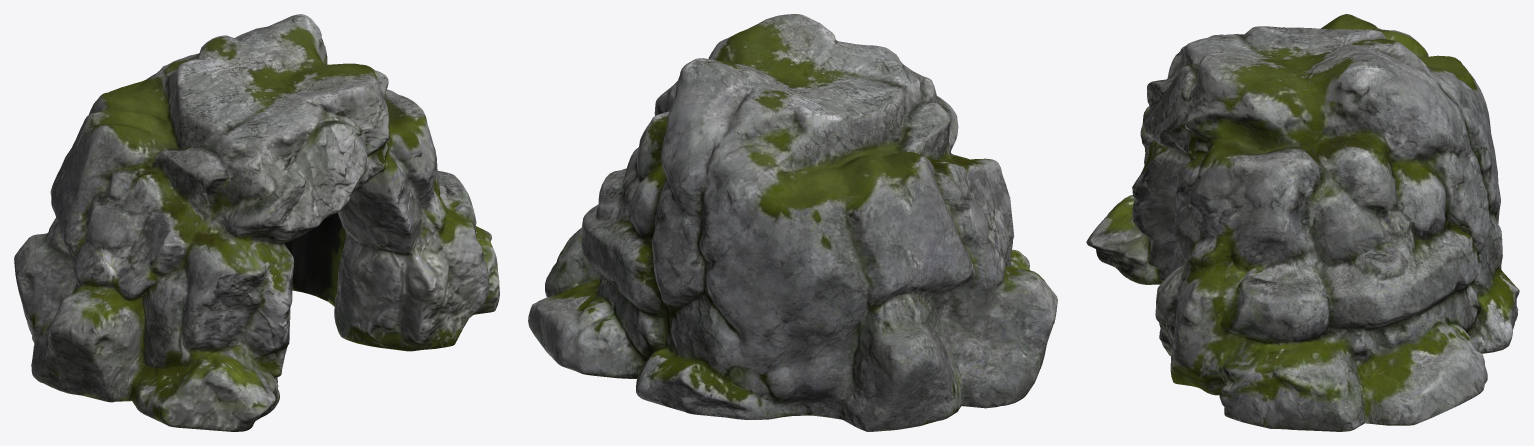
The model's file is cave.glb.
The picture shows the model from 3 angles, left to right: view 1: azimuth 30°, elevation 25°; view 2: azimuth 150°, elevation 25°; view 3: azimuth 270°, elevation 25°; orthographic projection. The views are drawn at different scales.
Parts seen in each view (by area): view 1: Mesh_0; view 2: Mesh_0; view 3: Mesh_0.
Boxes of the visible parts, bbox=[...] form: Mesh_0: bbox=[14, 14, 499, 431]; Mesh_0: bbox=[528, 14, 1057, 431]; Mesh_0: bbox=[1086, 14, 1519, 431].
Bounding box in the file's own units: 1.91 × 1.1 × 1.5.
1 material, 1 textured.
